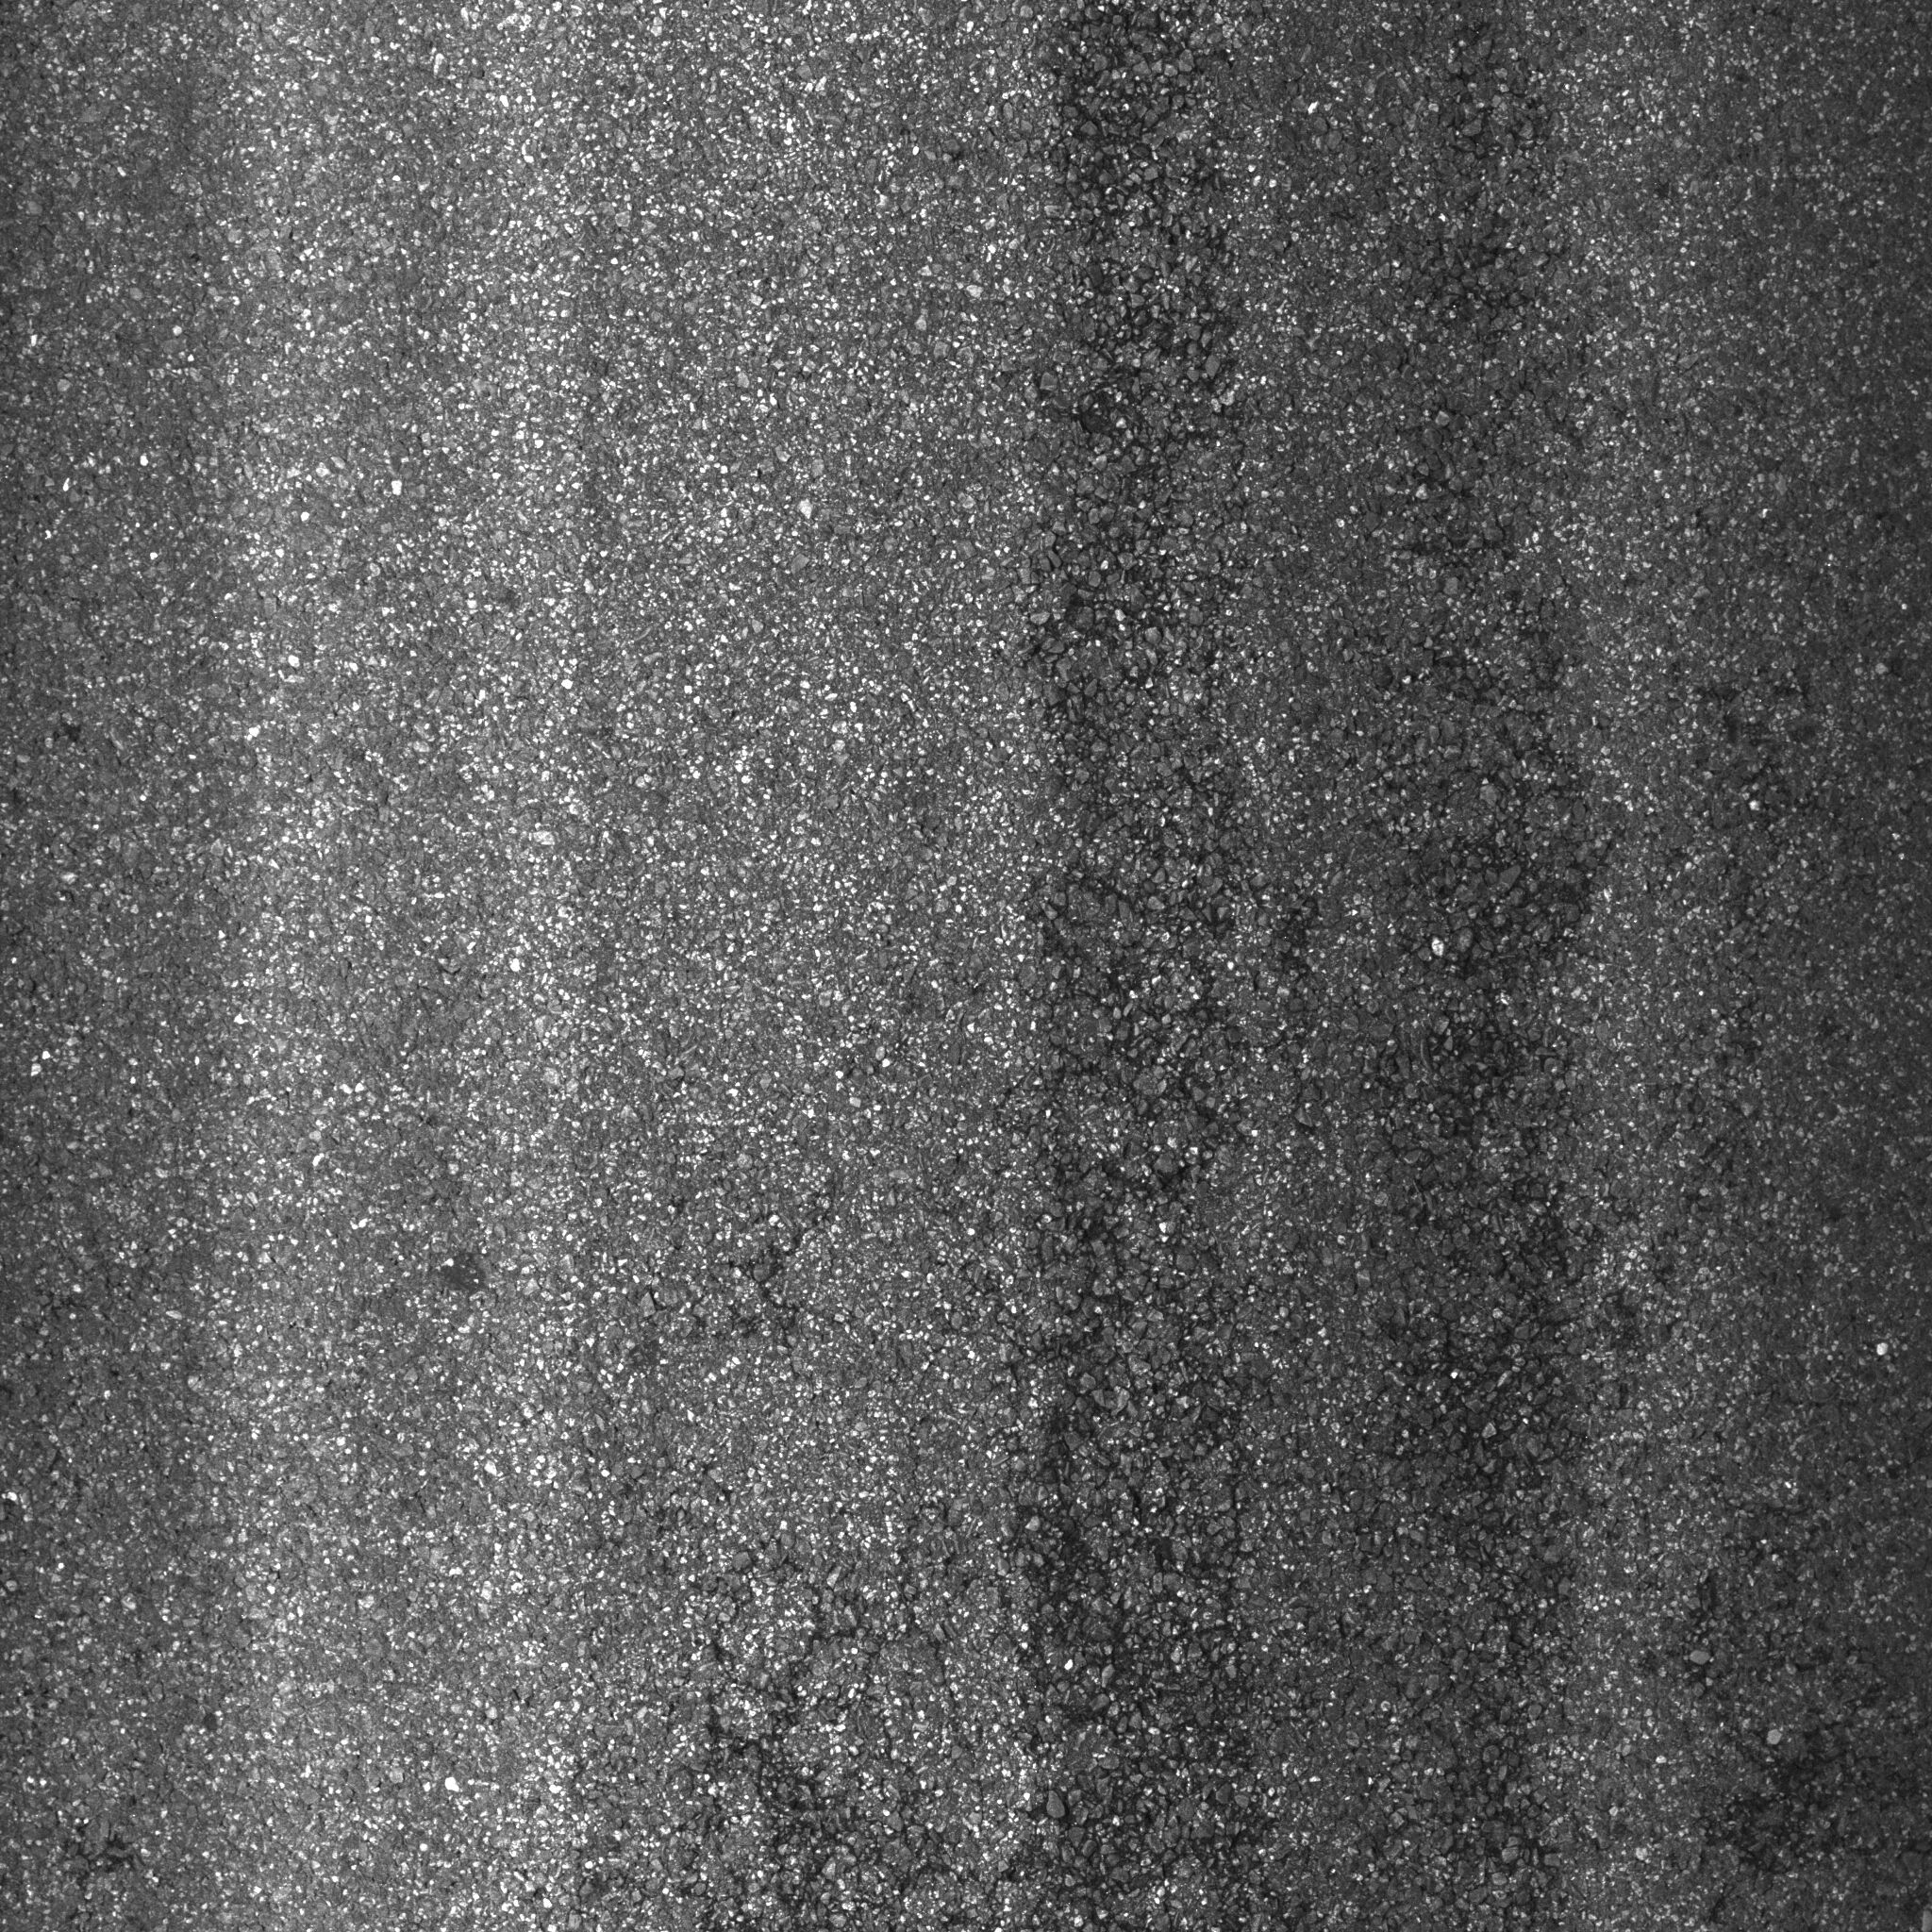alligator: (840, 115, 1688, 1932)
